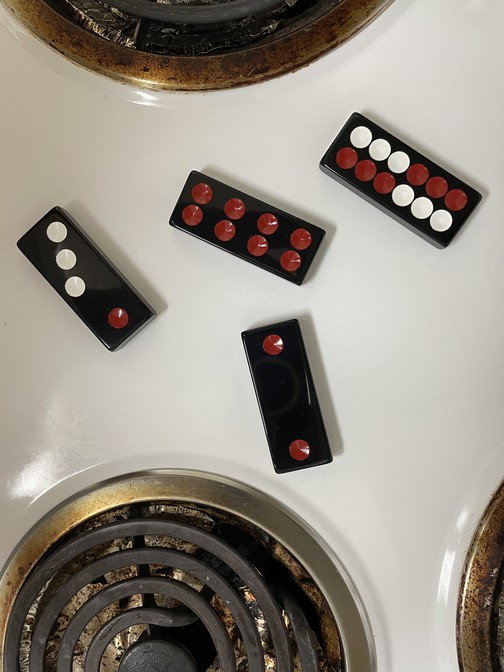earth: (241, 319, 340, 477)
goose: (15, 206, 158, 355)
heaven: (317, 109, 483, 250)
man: (169, 170, 328, 288)
